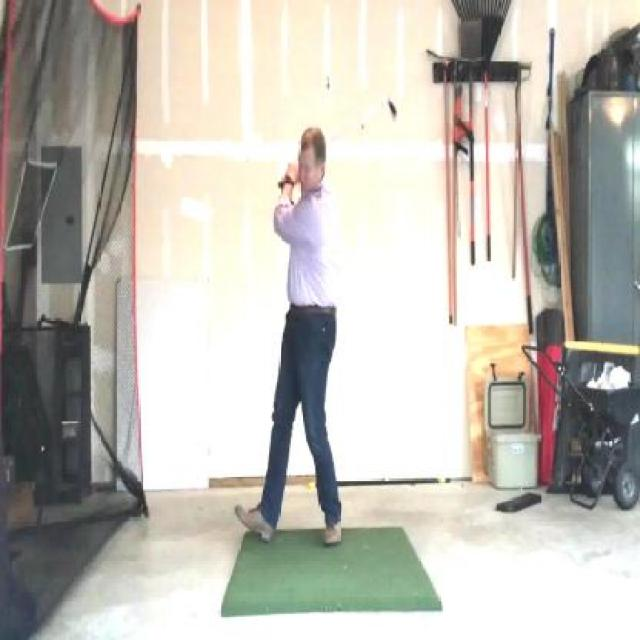club head: (378, 94, 398, 121)
